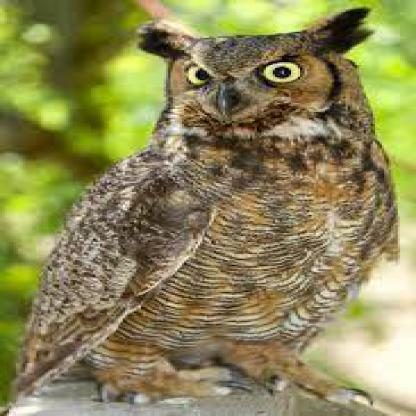owl: (45, 0, 414, 415)
